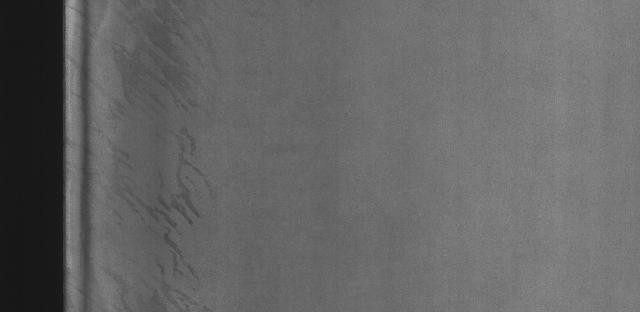water_spot: (110, 6, 241, 303)
